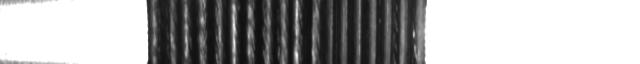Couter: (298, 0, 314, 64), (197, 0, 211, 64), (182, 0, 196, 64), (166, 0, 180, 64), (151, 0, 165, 64), (212, 0, 226, 64), (225, 0, 239, 64), (239, 0, 253, 64), (254, 0, 268, 64), (267, 0, 281, 64), (282, 0, 296, 64), (316, 0, 330, 64), (333, 0, 347, 64), (348, 0, 362, 64), (361, 0, 375, 64), (376, 0, 390, 64), (391, 0, 405, 64), (409, 0, 423, 64)
